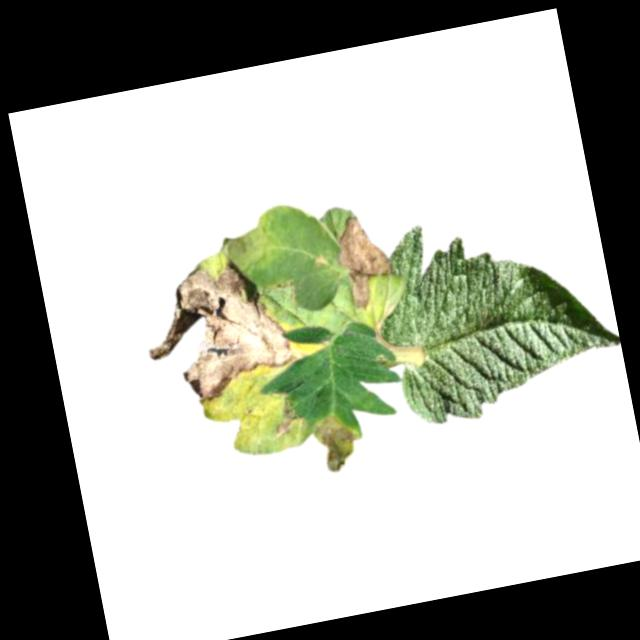Late_blight: (134, 251, 307, 412), (329, 209, 398, 314), (308, 407, 368, 474), (220, 228, 264, 272), (267, 393, 304, 438), (376, 351, 398, 370)
healthy: (364, 190, 628, 433)
